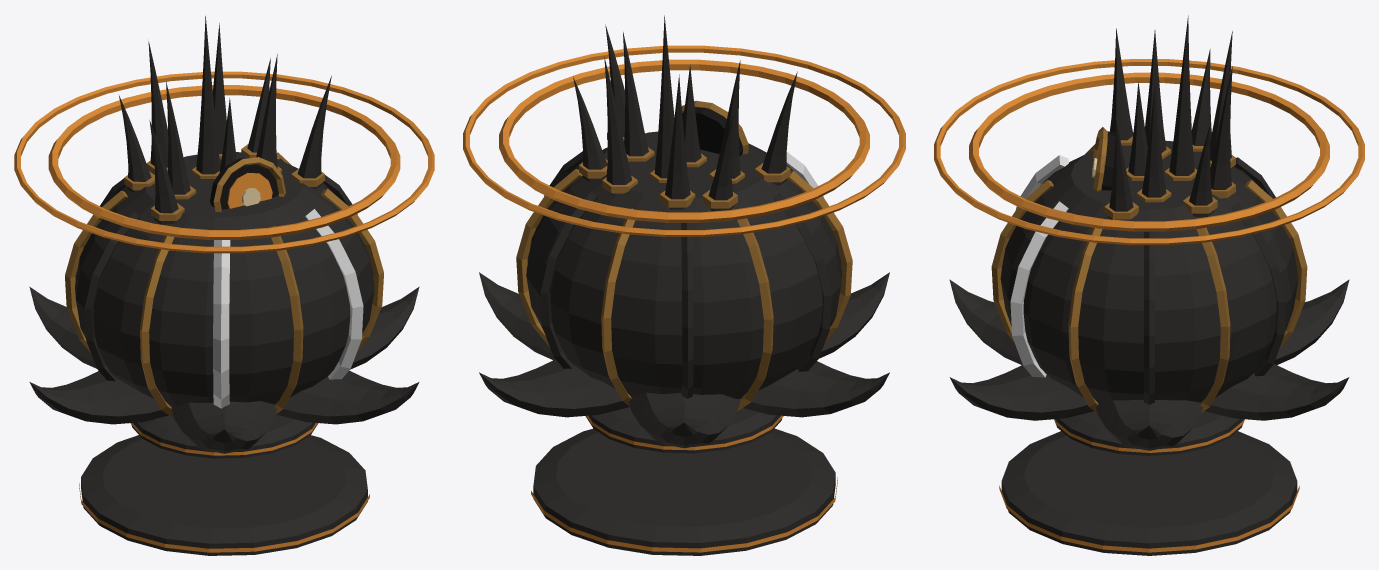
3 renders of one model, left to right at view 1: azimuth 30°, elevation 25°; view 2: azimuth 150°, elevation 25°; view 3: azimuth 270°, elevation 25°, orthographic. The views are drawn at different scales.
Visible parts, largest first — view 1: body; view 2: body; view 3: body.
Part boxes in pixels (<box>): body: <box>14,16,434,555</box>; body: <box>463,15,905,555</box>; body: <box>934,15,1364,555</box>.
Bounding box in the file's own units: 5 × 5.82 × 4.66.
